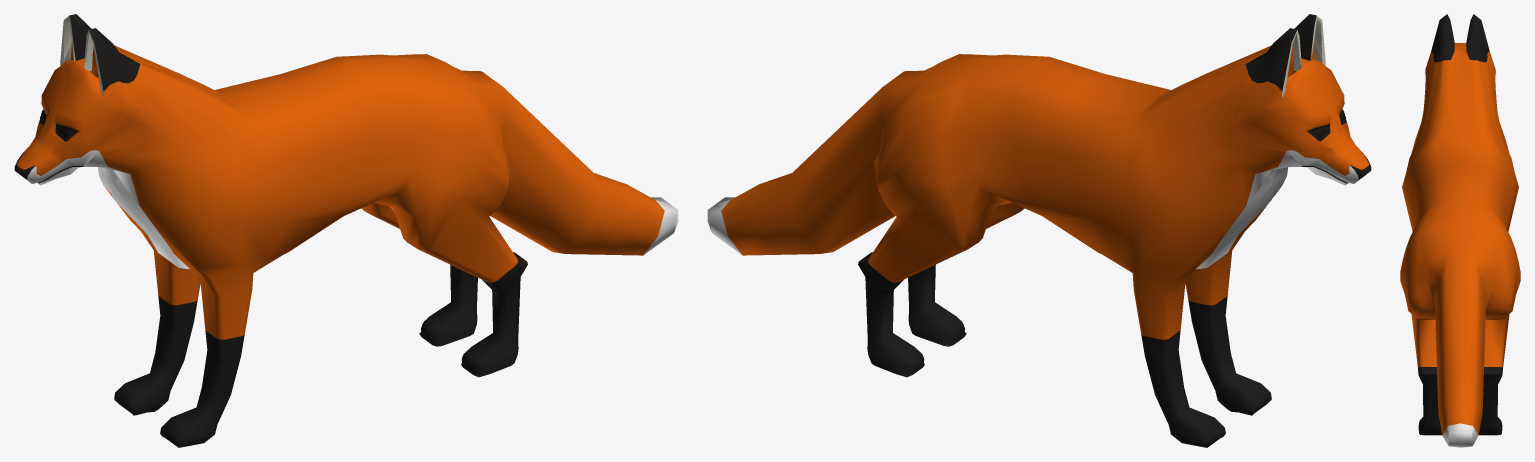
Rendered from Fox.fbx.
3 views of the same model, side by side, from view 1: azimuth 30°, elevation 25°; view 2: azimuth 150°, elevation 25°; view 3: azimuth 270°, elevation 25° (orthographic). The views are drawn at different scales.
Parts seen in each view (by area): view 1: Cube.001; view 2: Cube.001; view 3: Cube.001.
Boxes of the visible parts, x1,y1,x2,y2 form: Cube.001: (14,14,678,447); Cube.001: (707,14,1371,447); Cube.001: (1400,14,1520,447).
Size of the model in its own units: 150 by 92.77 by 35.1.
